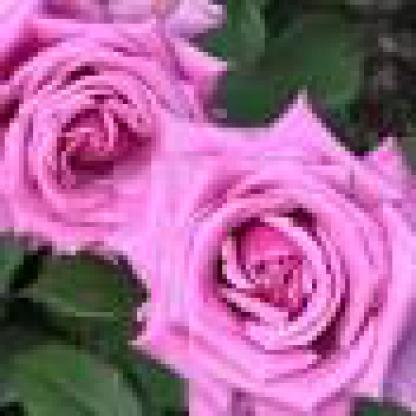Rose-Mawar: (115, 110, 413, 408)
